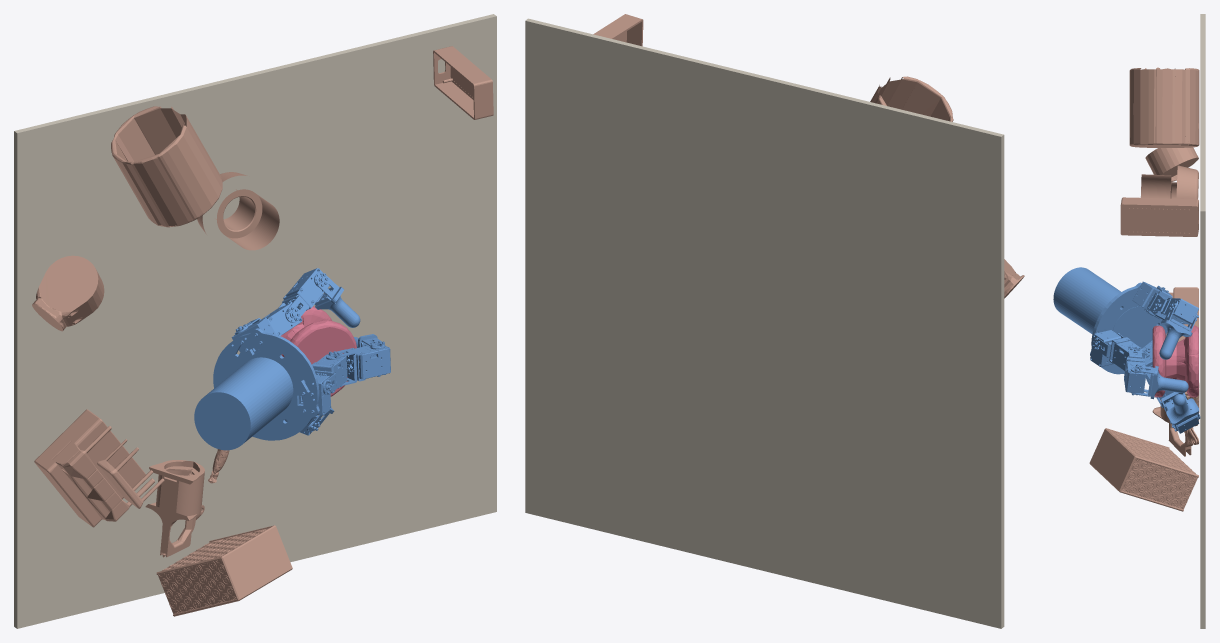
3 renders of one model, left to right at view 1: azimuth 30°, elevation 25°; view 2: azimuth 150°, elevation 25°; view 3: azimuth 270°, elevation 25°, orthographic. The views are drawn at different scales.
Parts seen in each view (by area): view 1: environment, hand, obstacle_006, obstacle_007, obstacle_004, obstacle_001, obstacle_002, obstacle_000, obstacle_005, world; view 2: environment, obstacle_006, obstacle_000; view 3: hand, obstacle_006, obstacle_004, environment, obstacle_000, world, obstacle_005, obstacle_001, obstacle_002, obstacle_007.
Part boxes in pixels (x1,y1,x2,y2): environment: [14, 14, 496, 628]; hand: [194, 268, 390, 450]; obstacle_006: [111, 106, 222, 227]; obstacle_007: [34, 409, 164, 527]; obstacle_004: [156, 525, 292, 616]; obstacle_001: [32, 255, 104, 331]; obstacle_002: [145, 460, 204, 557]; obstacle_000: [433, 46, 493, 119]; obstacle_005: [197, 172, 279, 250]; world: [280, 306, 356, 396]; environment: [525, 18, 1004, 628]; obstacle_006: [870, 76, 953, 121]; obstacle_000: [593, 14, 643, 46]; hand: [1053, 267, 1200, 433]; obstacle_006: [1129, 67, 1199, 147]; obstacle_004: [1089, 428, 1198, 511]; environment: [1200, 14, 1205, 628]; obstacle_000: [1120, 197, 1198, 236]; world: [1152, 325, 1198, 397]; obstacle_005: [1140, 165, 1198, 199]; obstacle_001: [1145, 147, 1198, 181]; obstacle_002: [1152, 383, 1199, 456]; obstacle_007: [1166, 287, 1198, 341].
Bounding box in the file's own units: 0.7231 × 0.7209 × 0.2355.
